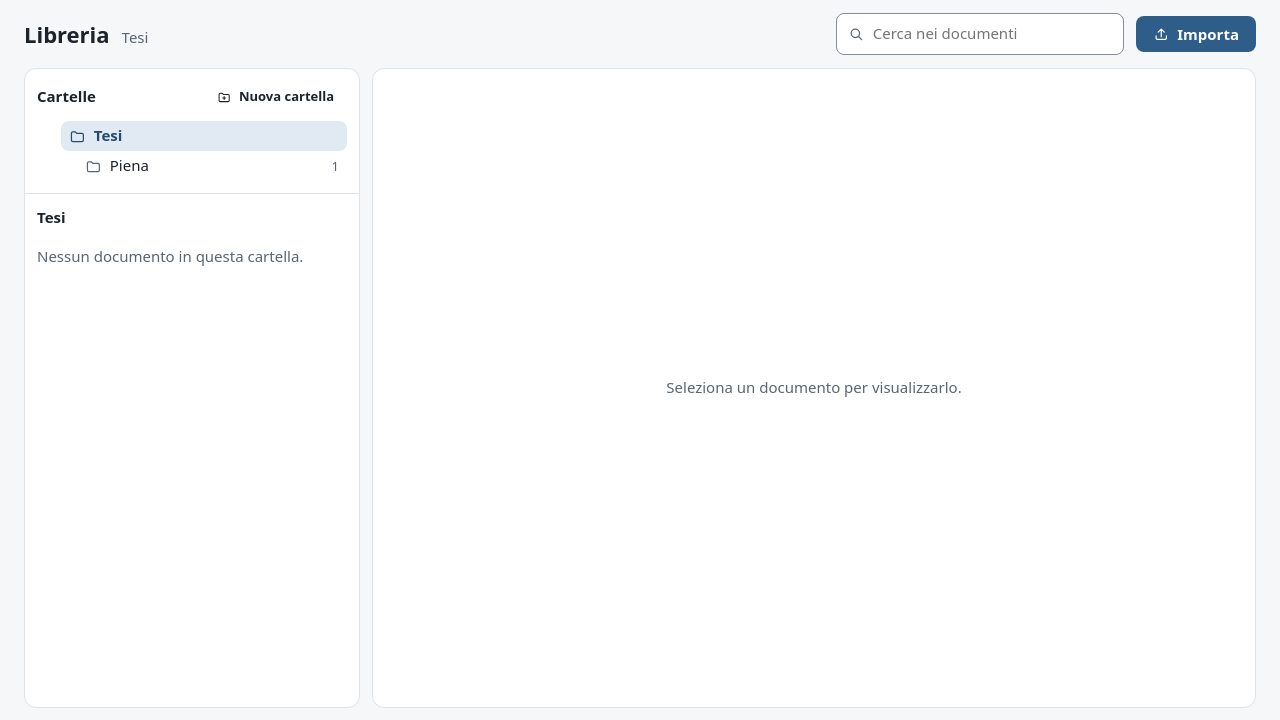
Test: folders › deleting a non-empty folder shows the conflict and keeps the dialog open
Click the button "Piena 1": (129, 165) [77, 151, 347, 181]
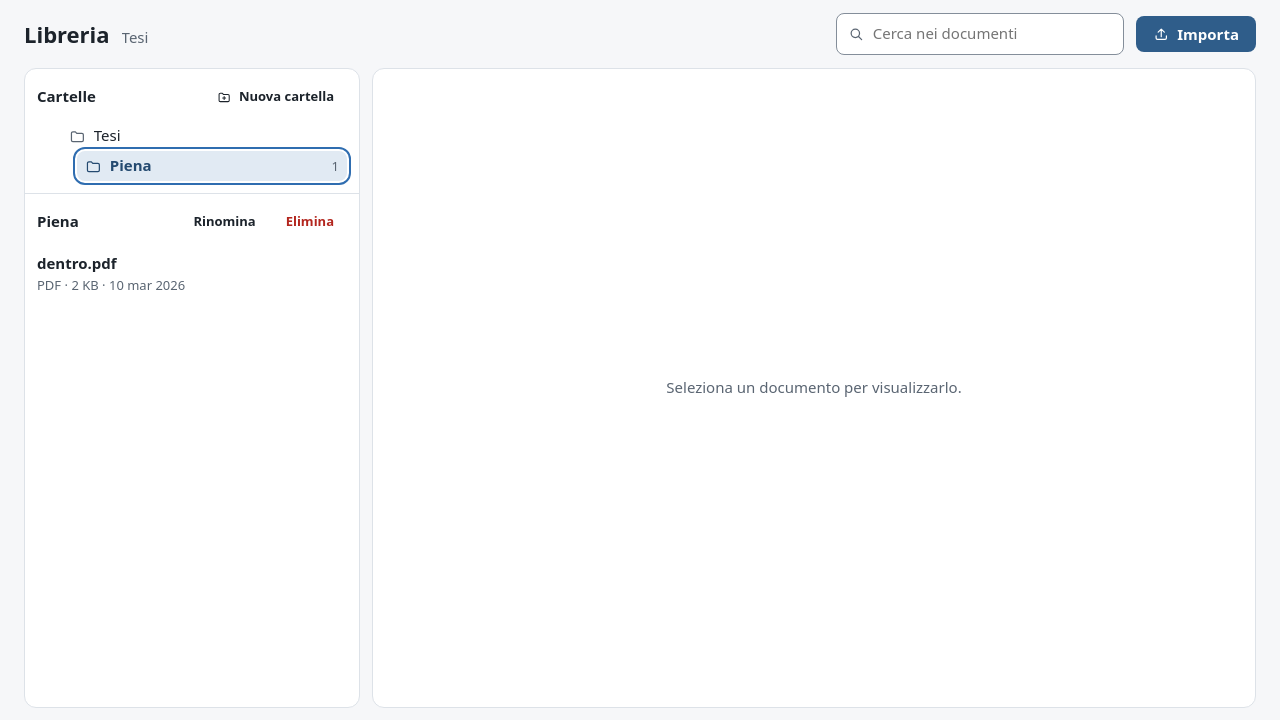
Click the button with aria-label "Elimina la cartella «Piena»": (310, 222) [273, 206, 347, 238]
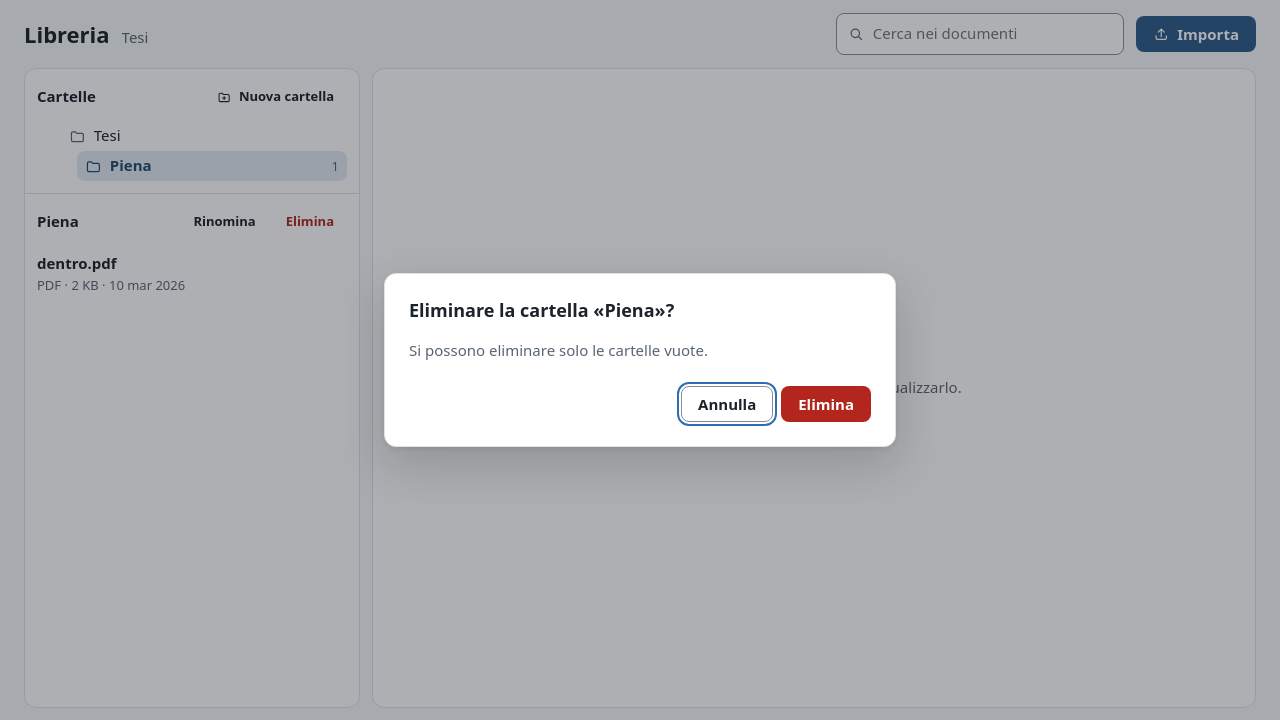
Click the button "Elimina": (826, 404) [781, 386, 871, 422]
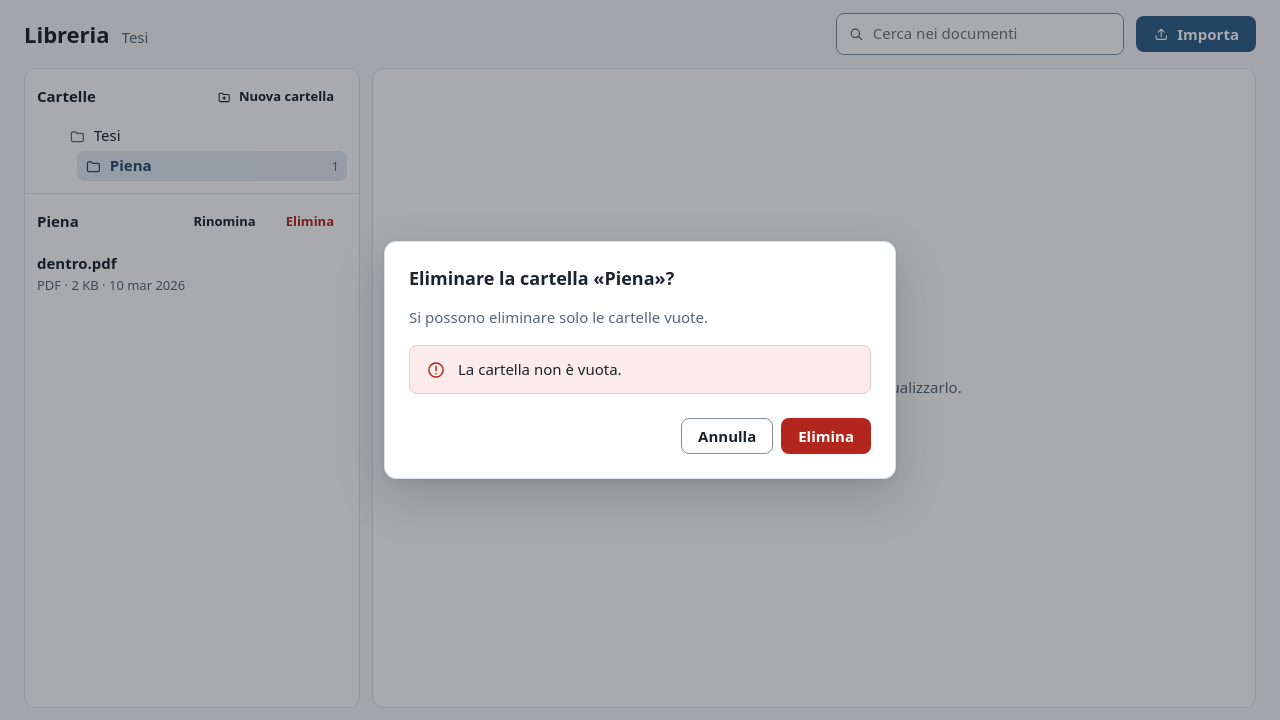
Check: the dialog is shown, box [384, 241, 896, 479]
Check: the text "La cartella non è vuota." is shown, box [458, 359, 622, 379]
